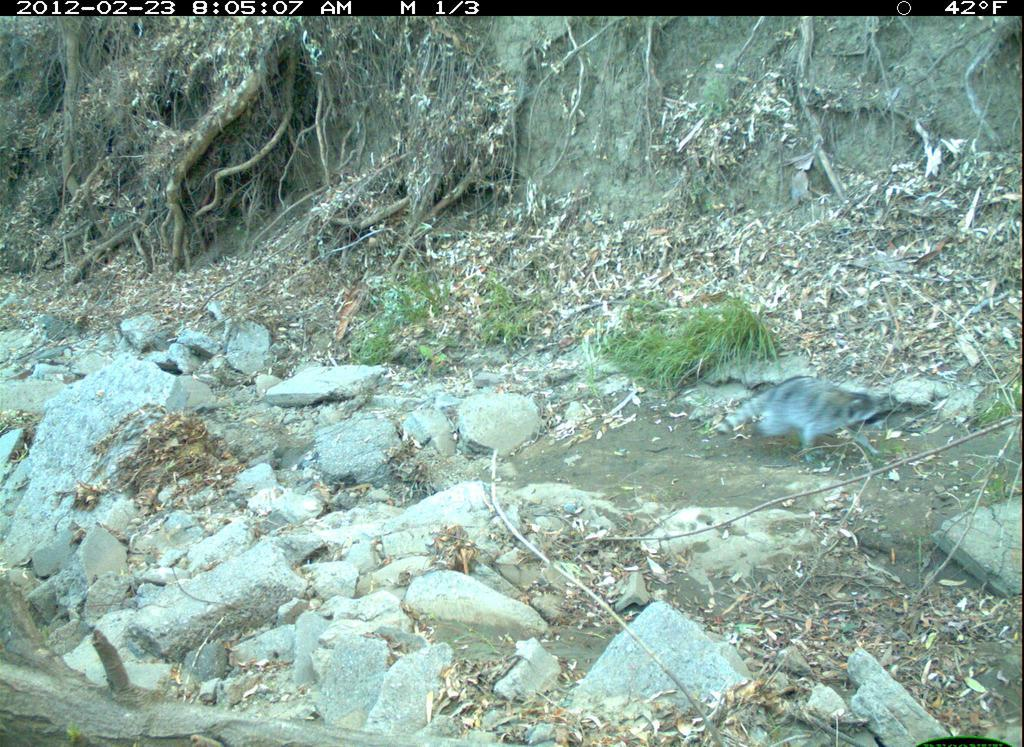raccoon: (717, 364, 891, 481)
